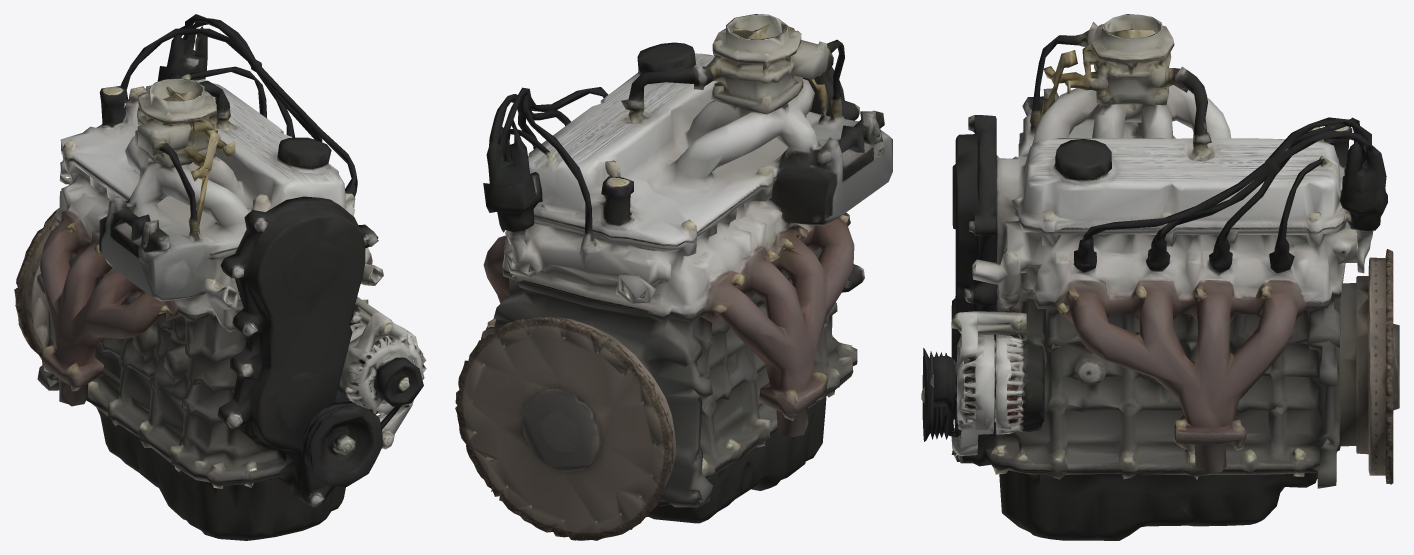
File: engine-assy.glb
3 views of the same model, side by side, from view 1: azimuth 30°, elevation 25°; view 2: azimuth 150°, elevation 25°; view 3: azimuth 270°, elevation 25° (orthographic). The views are drawn at different scales.
Parts seen in each view (by area): view 1: tripo_node_94c4f8f1-22a2-47bb-a39d-11eadf434454; view 2: tripo_node_94c4f8f1-22a2-47bb-a39d-11eadf434454; view 3: tripo_node_94c4f8f1-22a2-47bb-a39d-11eadf434454.
Part boxes in pixels (<box>): tripo_node_94c4f8f1-22a2-47bb-a39d-11eadf434454: <box>14,14,426,540</box>; tripo_node_94c4f8f1-22a2-47bb-a39d-11eadf434454: <box>455,14,892,540</box>; tripo_node_94c4f8f1-22a2-47bb-a39d-11eadf434454: <box>921,14,1399,540</box>.
Size of the model in its own units: 0.6949 by 1 by 0.9428.
1 material, 1 textured.
